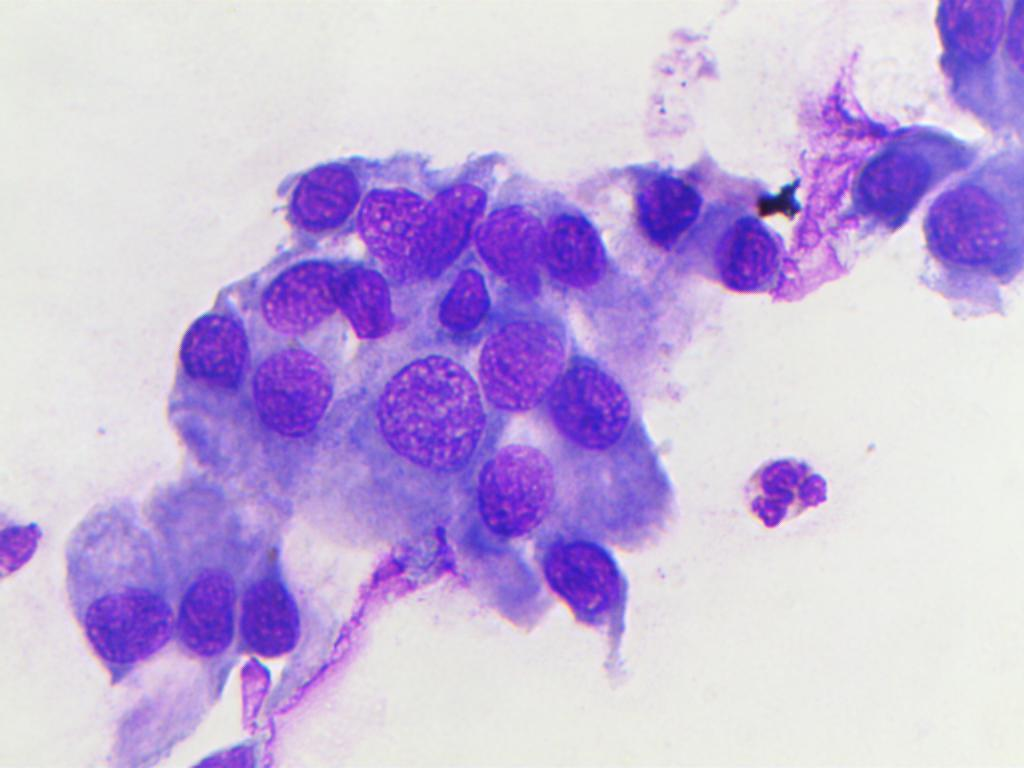epithelial: (61, 500, 165, 673), (360, 344, 482, 472), (363, 166, 484, 280), (846, 118, 969, 223), (171, 305, 250, 458), (176, 472, 239, 658), (613, 161, 714, 261), (248, 345, 339, 452), (267, 145, 362, 243), (476, 313, 567, 415), (470, 199, 556, 301), (255, 252, 346, 346), (532, 526, 622, 612), (237, 541, 299, 660), (482, 439, 558, 536), (924, 179, 1010, 262), (700, 216, 787, 298), (546, 369, 636, 446), (327, 260, 417, 335), (536, 203, 610, 294), (934, 1, 1008, 67), (423, 271, 499, 333)
neutrophil: (732, 443, 843, 530)
